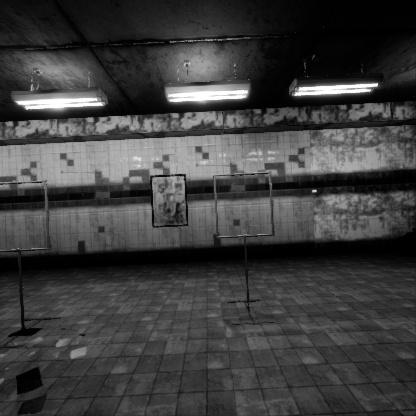gate: (213, 176, 279, 244)
